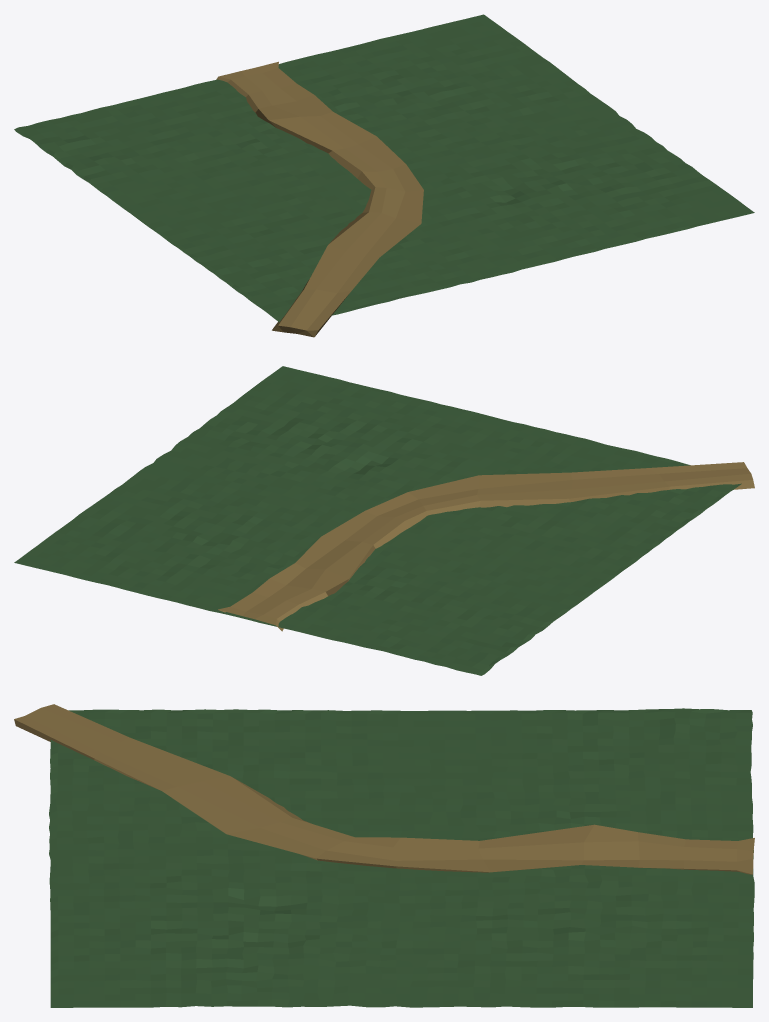
File: athili_copse_section2.glb
3 views of the same model, one above another, from view 1: azimuth 30°, elevation 25°; view 2: azimuth 150°, elevation 25°; view 3: azimuth 270°, elevation 25° (orthographic). The views are drawn at different scales.
Parts seen in each view (by area): view 1: Grass, Road; view 2: Grass, Road; view 3: Grass, Road.
Boxes of the visible parts, left/top/right/bottom form: Grass: left=14, top=14, right=754, bottom=322; Road: left=216, top=61, right=423, bottom=337; Grass: left=14, top=366, right=741, bottom=675; Road: left=218, top=462, right=754, bottom=631; Grass: left=49, top=708, right=754, bottom=1007; Road: left=14, top=704, right=754, bottom=874.
Bounding box in the file's own units: 60.45 × 1.28 × 62.4.
